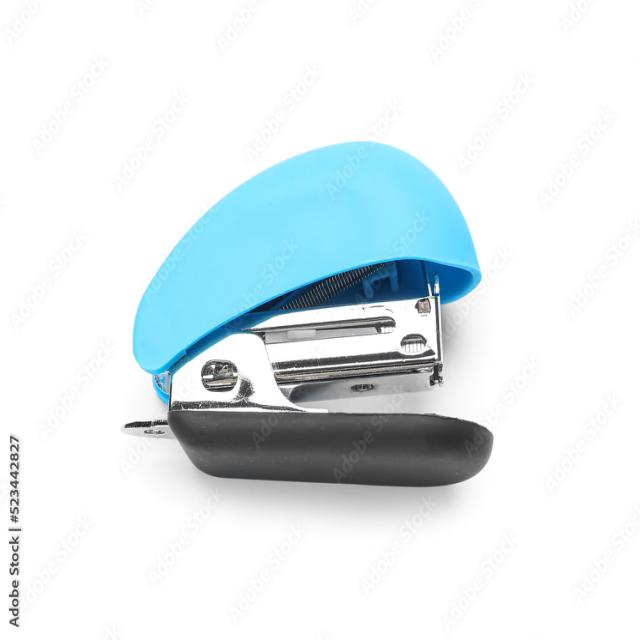Stapler: (99, 93, 519, 520)
